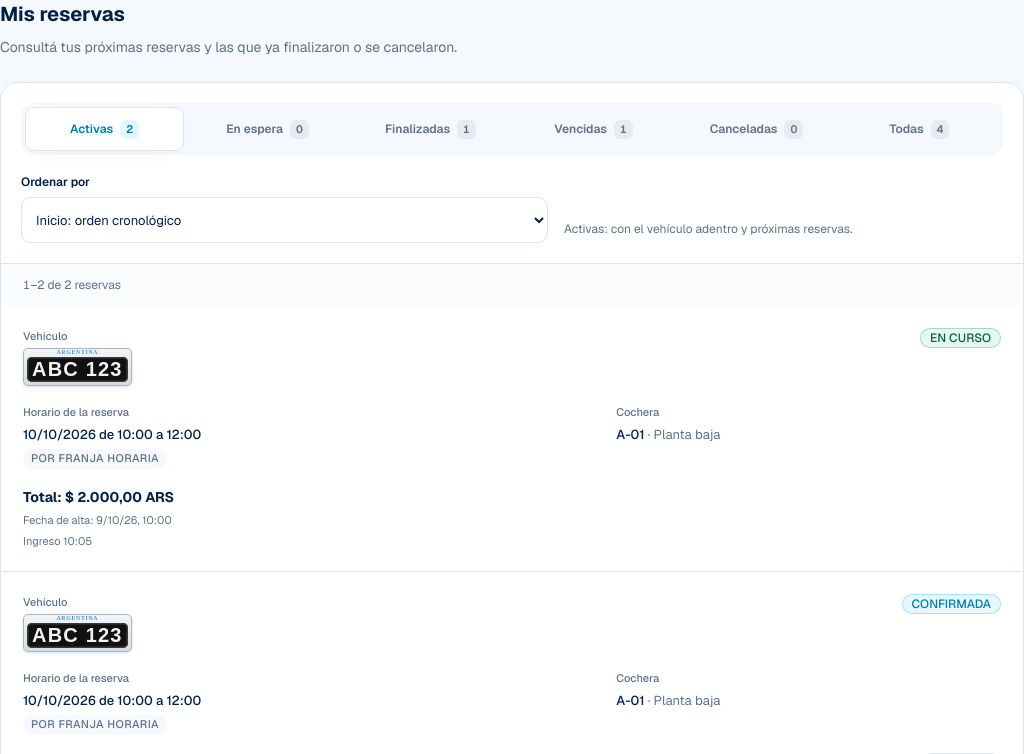
Test: ReservasListado con los estados de acceso (user) › muestra la hora de ingreso, la de egreso y el exceso registrados en la puerta
The width and height of the screenshot is (1024, 754).
Click the button "Finalizadas 1" at point(430, 129), box [351,107,510,151]
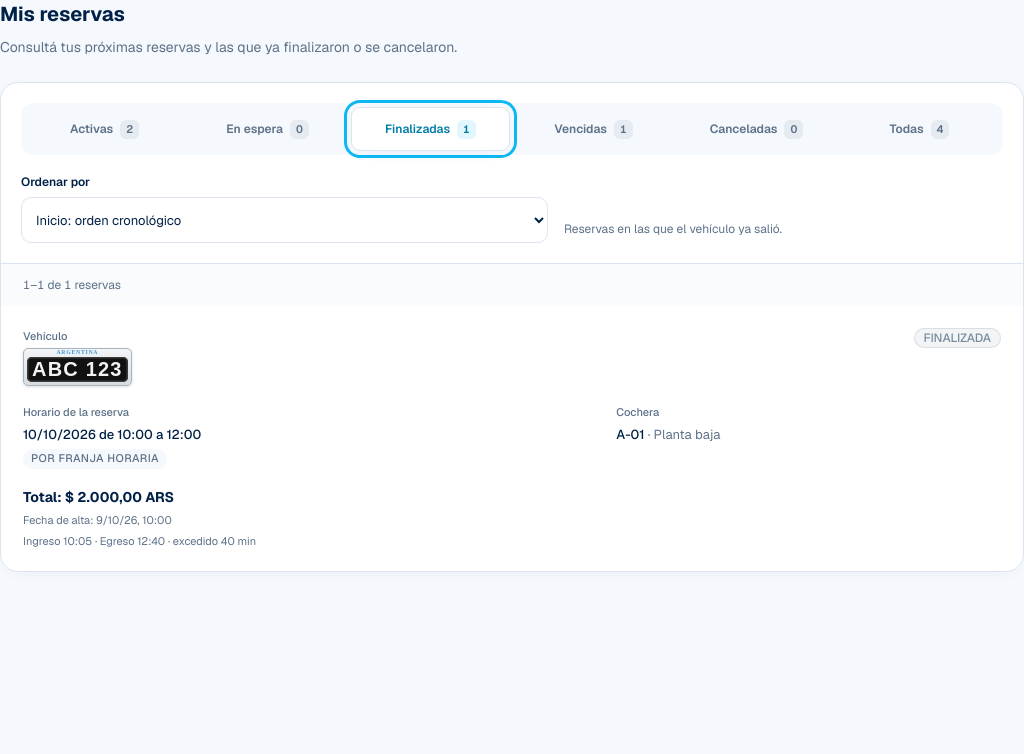
Result: the list item shows "Ingreso 10:05 · Egreso 12:40 · excedido 40 min" at [23,534,256,548]
